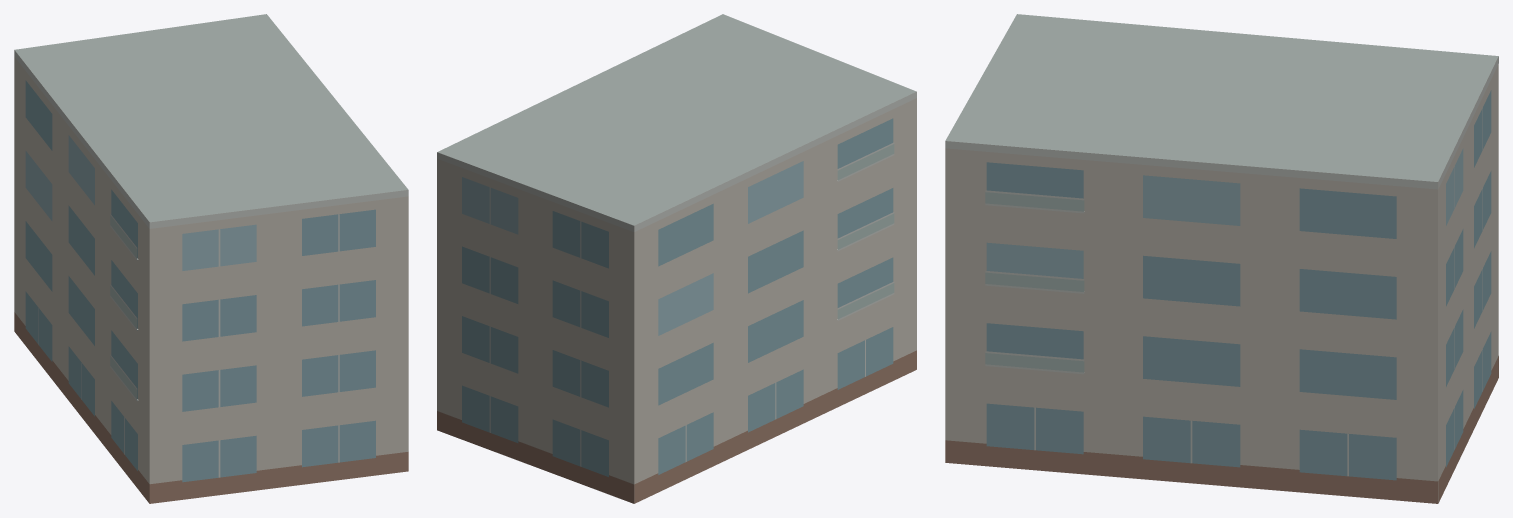
File: survey-upis-32885886.glb
3 renders of one model, left to right at view 1: azimuth 30°, elevation 25°; view 2: azimuth 150°, elevation 25°; view 3: azimuth 270°, elevation 25°, orthographic. The views are drawn at different scales.
Visible parts, largest first — view 1: survey-upis-32885886.tmp; view 2: survey-upis-32885886.tmp; view 3: survey-upis-32885886.tmp.
Part boxes in pixels (box(x1,y1,x2,y2)): survey-upis-32885886.tmp: box(14, 14, 408, 503); survey-upis-32885886.tmp: box(437, 14, 916, 503); survey-upis-32885886.tmp: box(945, 14, 1498, 503).
Bounding box in the file's own units: 11.77 × 10.5 × 16.38.
